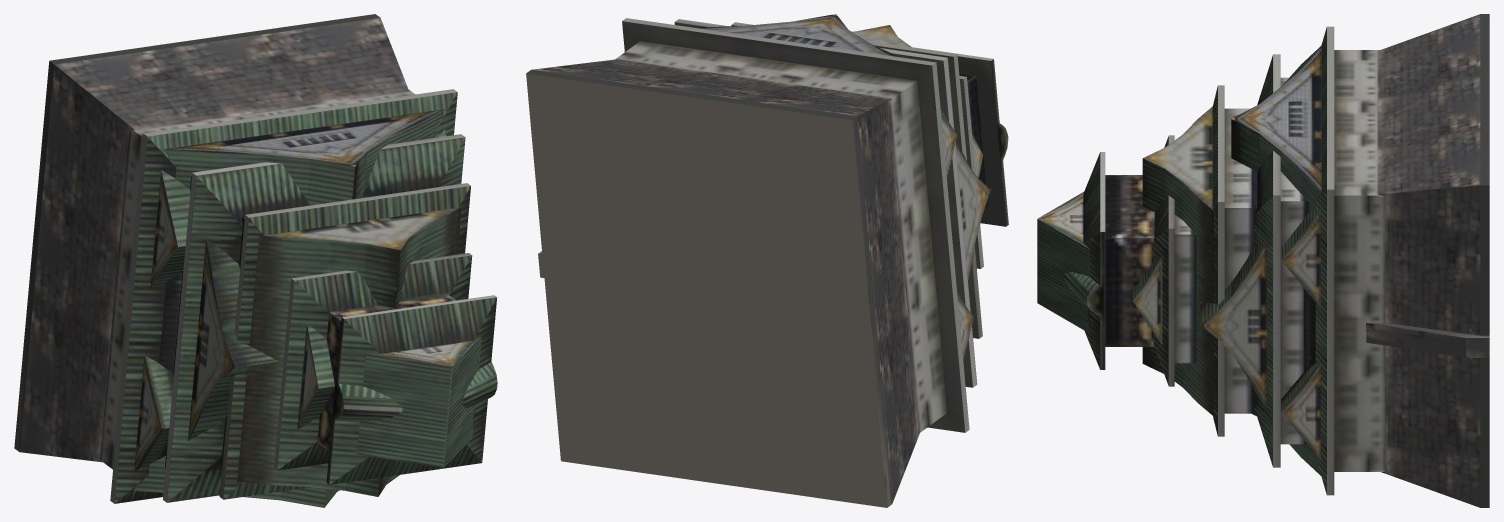
Rendered from Oosakajou.fbx.
The picture shows the model from 3 angles, left to right: view 1: azimuth 30°, elevation 25°; view 2: azimuth 150°, elevation 25°; view 3: azimuth 270°, elevation 25°; orthographic projection. The views are drawn at different scales.
Parts seen in each view (by area): view 1: Oosakajou; view 2: Oosakajou; view 3: Oosakajou.
Part boxes in pixels (x1,y1,x2,y2): Oosakajou: [14, 14, 497, 507]; Oosakajou: [526, 14, 1008, 507]; Oosakajou: [1037, 14, 1489, 507].
Size of the model in its own units: 43.72 by 53.21 by 47.68.
2 materials, 2 textured.
